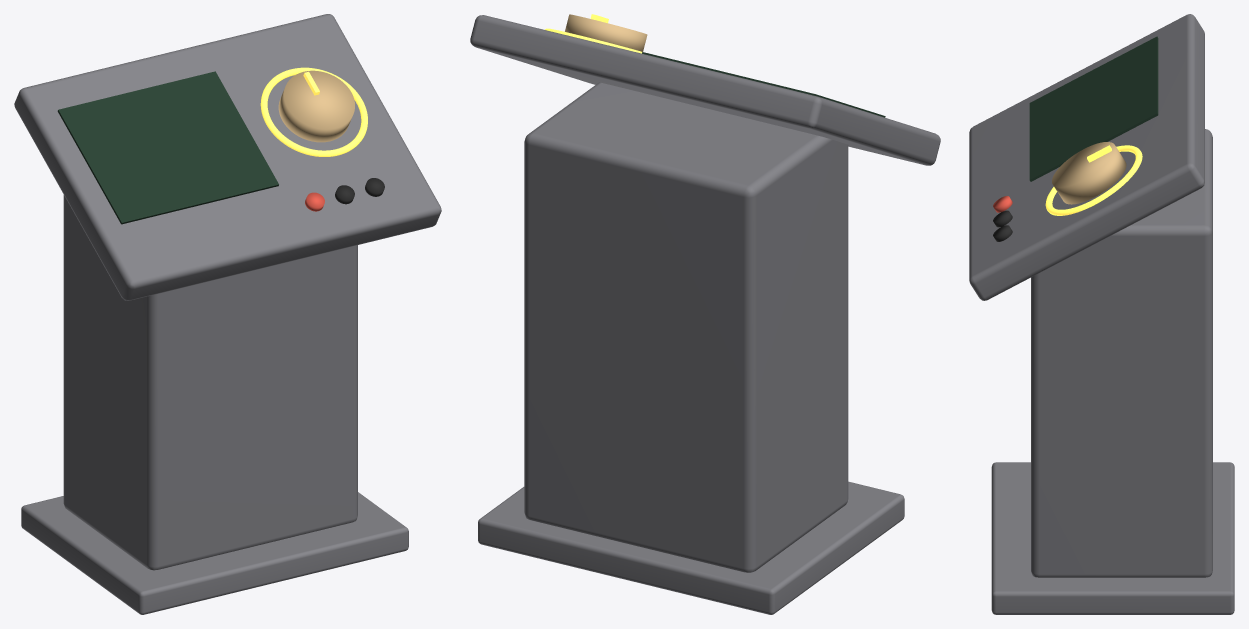
File: console.glb
The picture shows the model from 3 angles, left to right: view 1: azimuth 30°, elevation 25°; view 2: azimuth 150°, elevation 25°; view 3: azimuth 270°, elevation 25°; orthographic projection. The views are drawn at different scales.
Parts seen in each view (by area): view 1: stand, desk, screen, plinth, dial, scale; view 2: stand, plinth, desk, dial; view 3: stand, desk, plinth, screen, dial, scale.
Boxes of the visible parts, x1,y1,x2,y2 form: stand: [63, 195, 357, 570]; desk: [14, 14, 441, 300]; screen: [57, 71, 278, 224]; plinth: [21, 492, 408, 614]; dial: [278, 70, 354, 142]; scale: [260, 67, 367, 156]; stand: [524, 82, 848, 572]; plinth: [478, 481, 904, 614]; desk: [470, 15, 940, 165]; dial: [565, 14, 647, 51]; stand: [1031, 129, 1212, 577]; desk: [969, 14, 1204, 300]; plinth: [991, 462, 1234, 614]; screen: [1029, 36, 1158, 181]; dial: [1052, 142, 1126, 204]; scale: [1045, 145, 1142, 215].
Bounding box in the file's own units: 0.84 × 1.17 × 0.6118.
